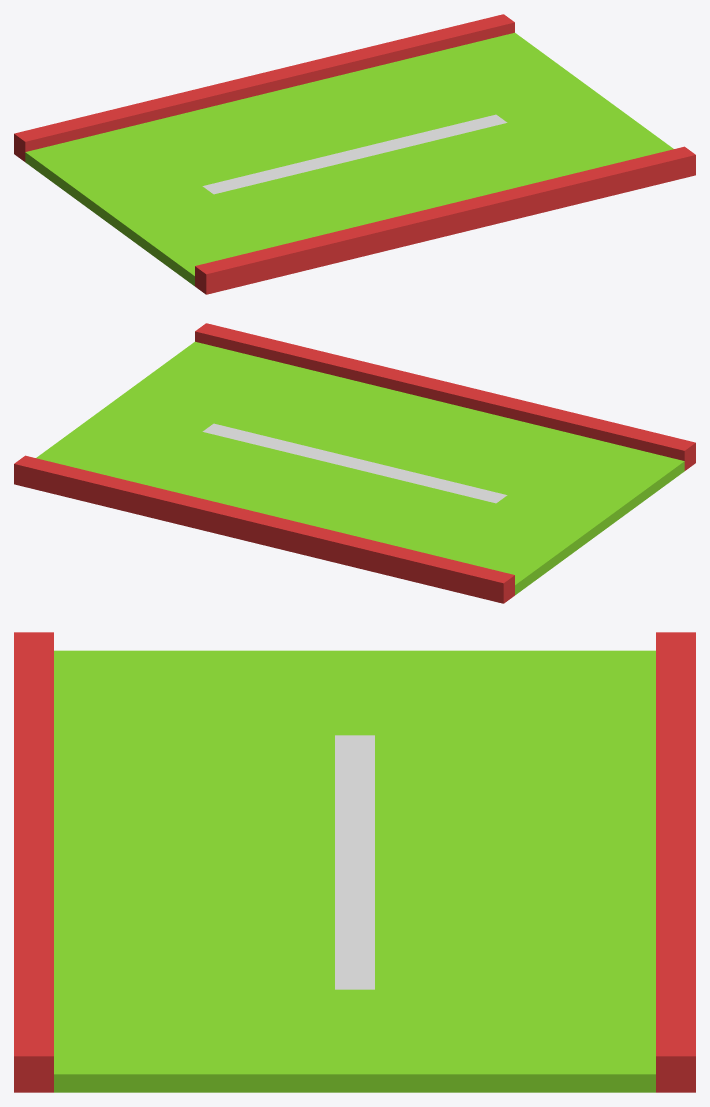
The model's file is asphalt_road_straight.fbx.
The picture shows the model from 3 angles, top to bottom: view 1: azimuth 30°, elevation 25°; view 2: azimuth 150°, elevation 25°; view 3: azimuth 270°, elevation 25°; orthographic projection. The views are drawn at different scales.
Visible parts, largest first — view 1: asphalt_road_straight.002; view 2: asphalt_road_straight.002; view 3: asphalt_road_straight.002.
Part boxes in pixels (x1=…): asphalt_road_straight.002: x1=14, y1=14, x2=695, y2=294; asphalt_road_straight.002: x1=14, y1=323, x2=695, y2=603; asphalt_road_straight.002: x1=14, y1=632, x2=695, y2=1092.
Size of the model in its own units: 500 by 20 by 340.
